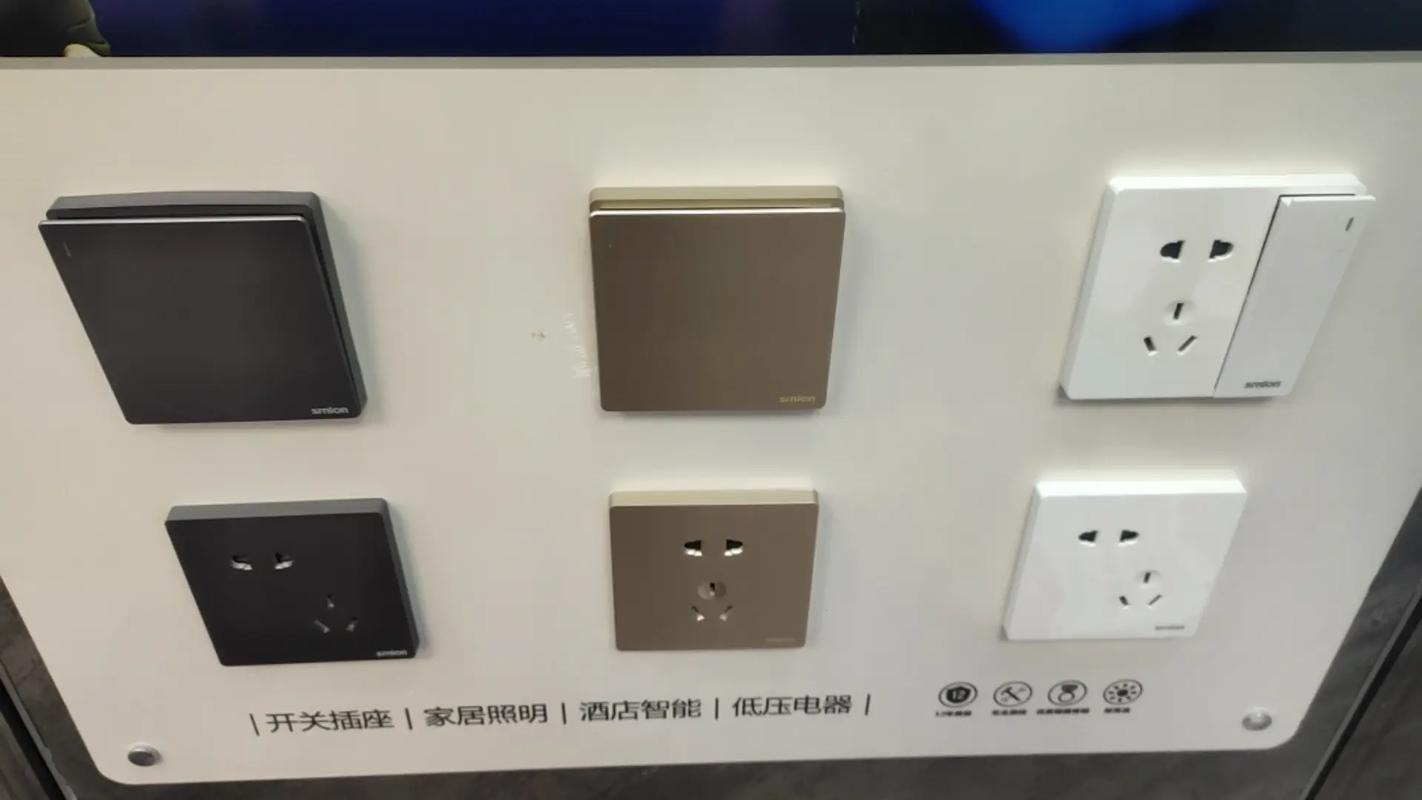button: (37, 190, 373, 431), (1062, 164, 1378, 406), (579, 179, 851, 418)
